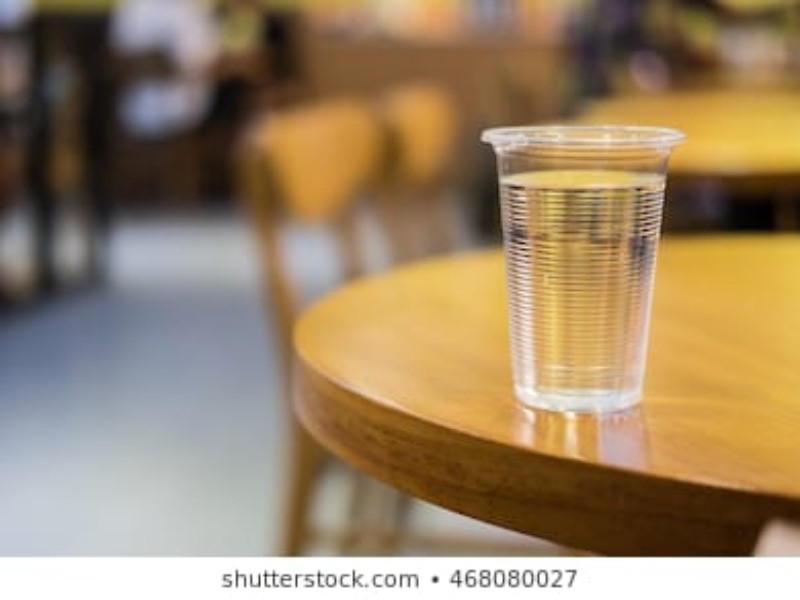plastic-cup: (478, 122, 682, 414)
